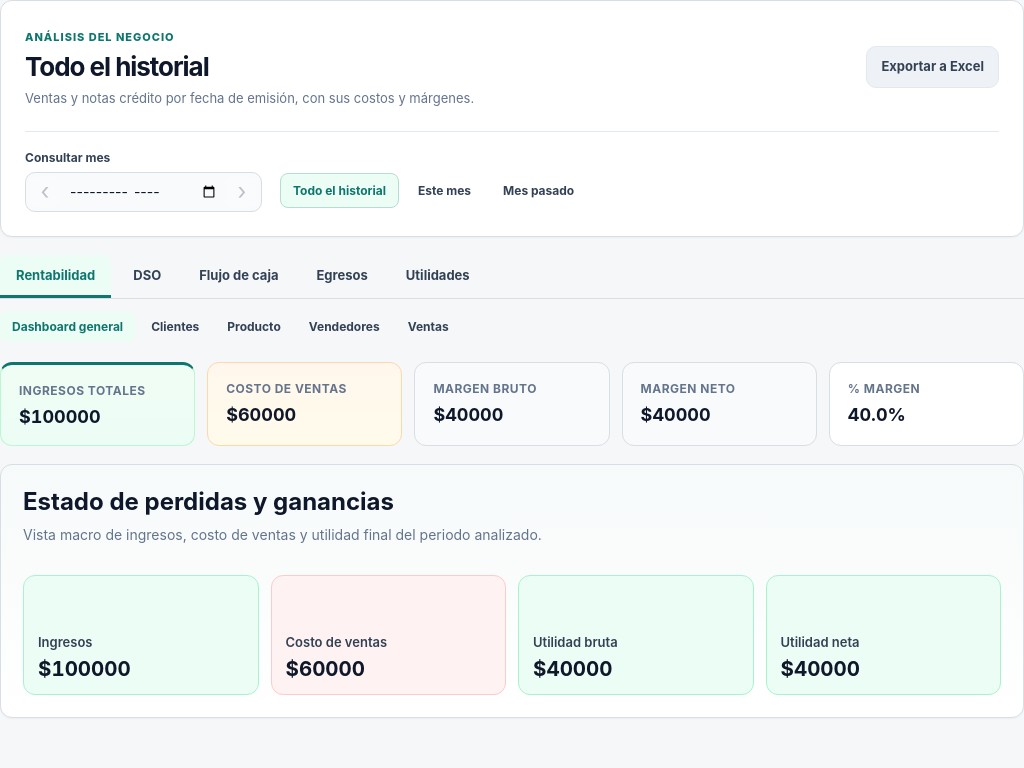
Scenario: monthly reports › retains the month between reports and navigates across years
In the field labelled "Consultar mes": (144, 192) [64,177,223,206], type "2026-01"
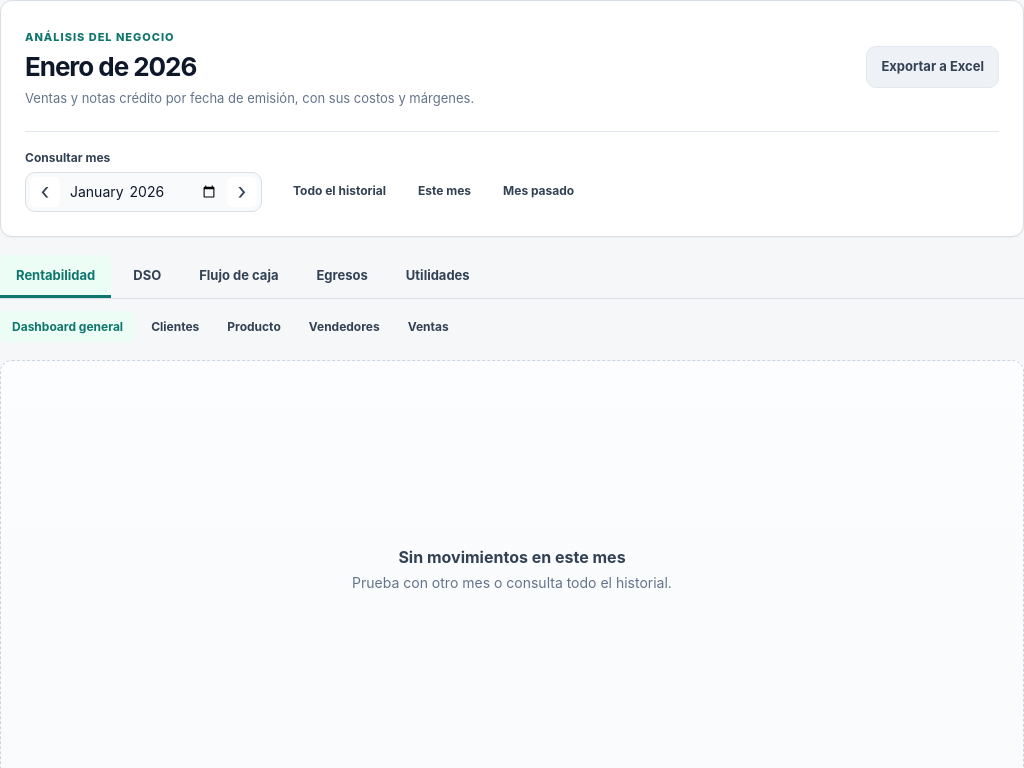
Click the button named "Mes anterior": (45, 192) [30,177,60,207]
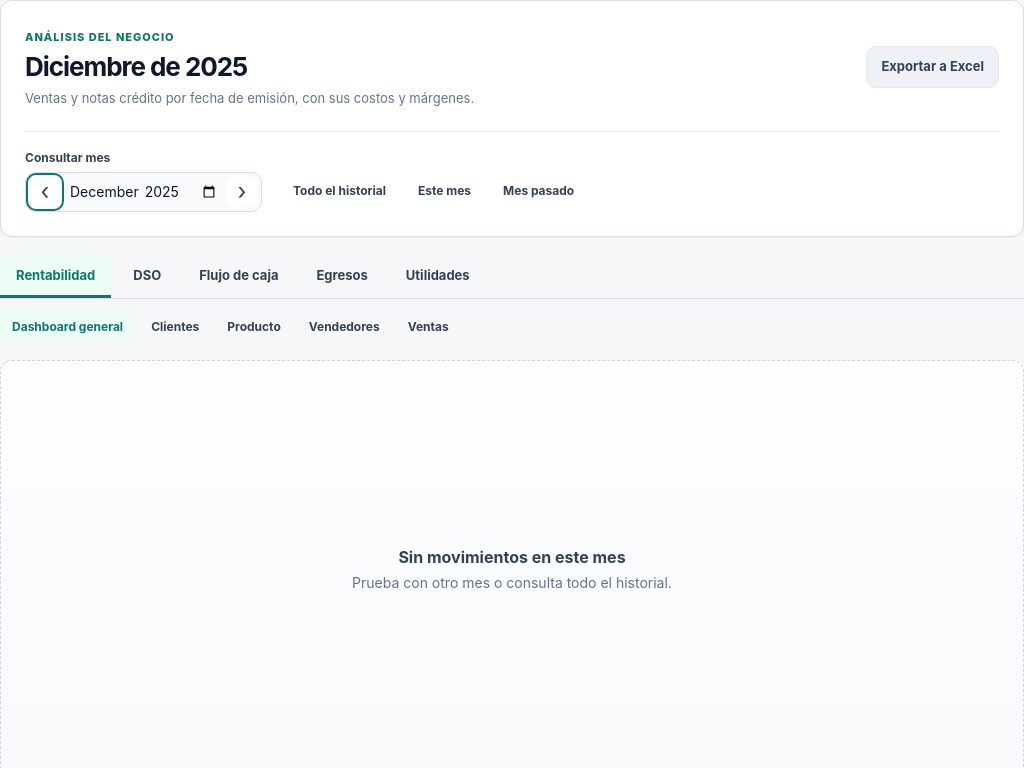
Check: the field labelled "Consultar mes" holds "2025-12", box [64,177,223,206]
Click the tab "Egresos": (342, 276) [300,255,384,298]
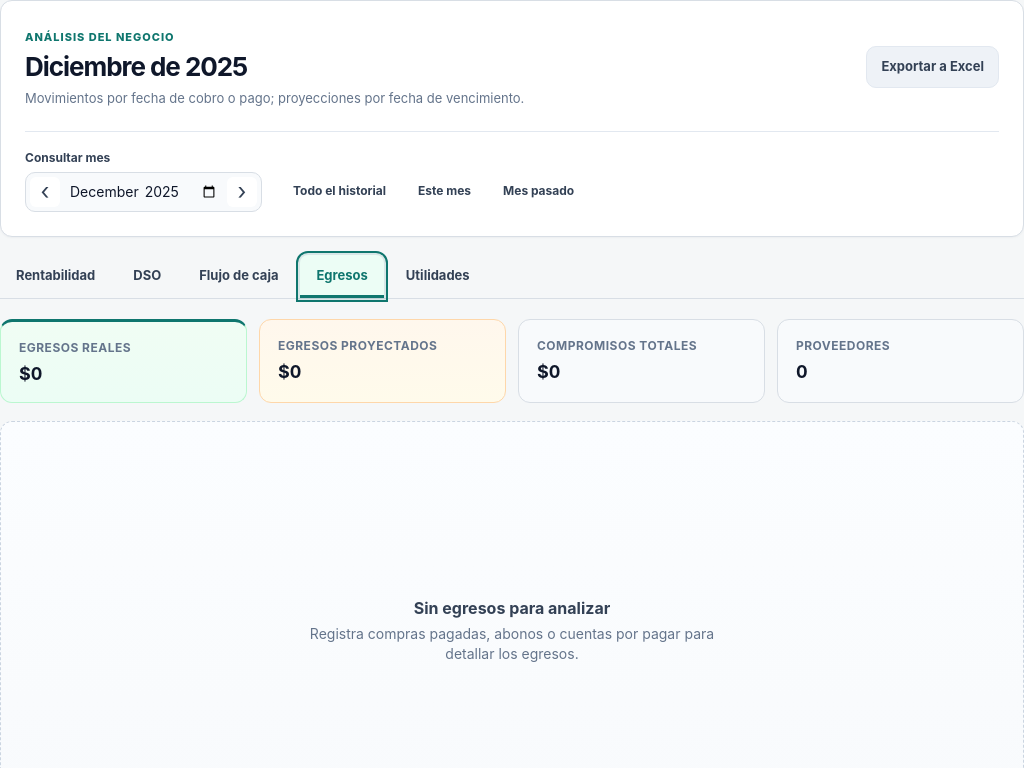
Check: the field labelled "Consultar mes" holds "2025-12", box [64,177,223,206]
Click the button named "Mes siguiente": (242, 192) [227,177,257,207]
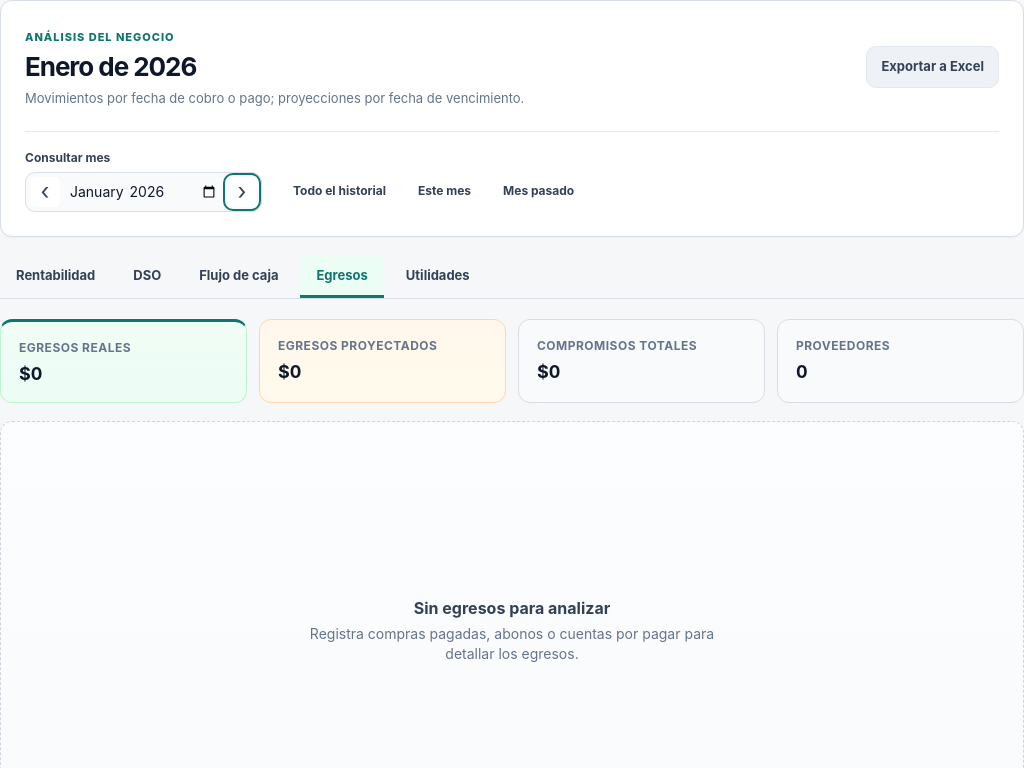
Click the button "Este mes": (444, 191) [405,173,484,208]
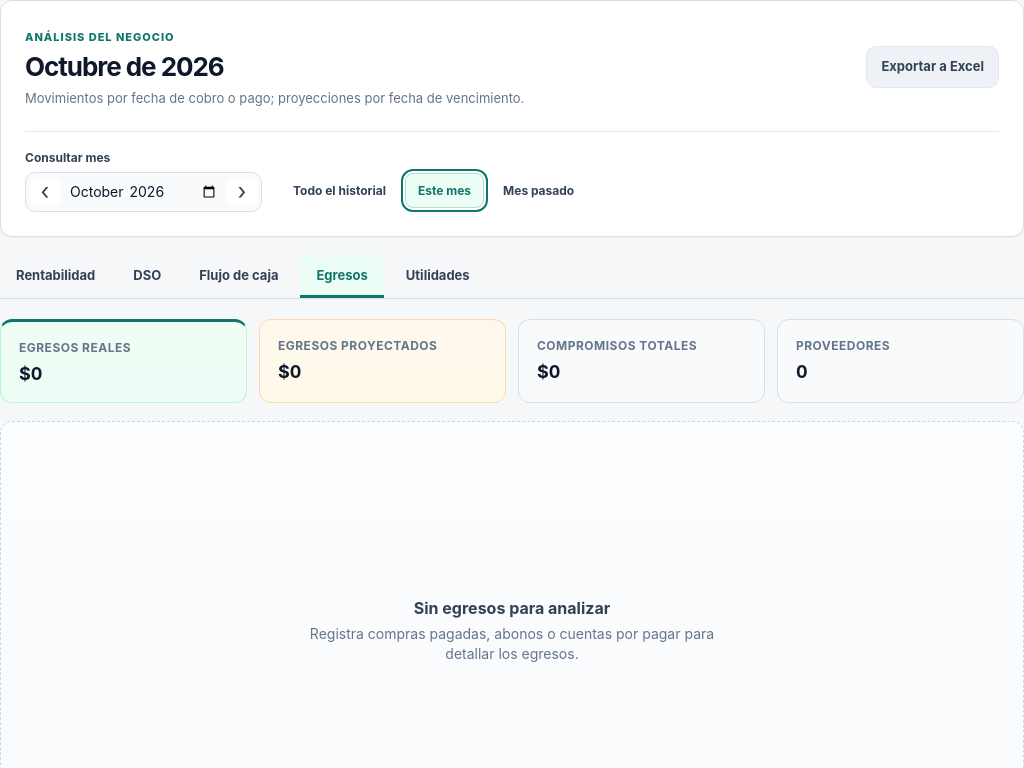
Check: the field labelled "Consultar mes" holds "2026-10", box [64,177,223,206]
